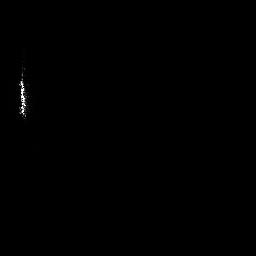ship: (19, 65, 31, 121)
